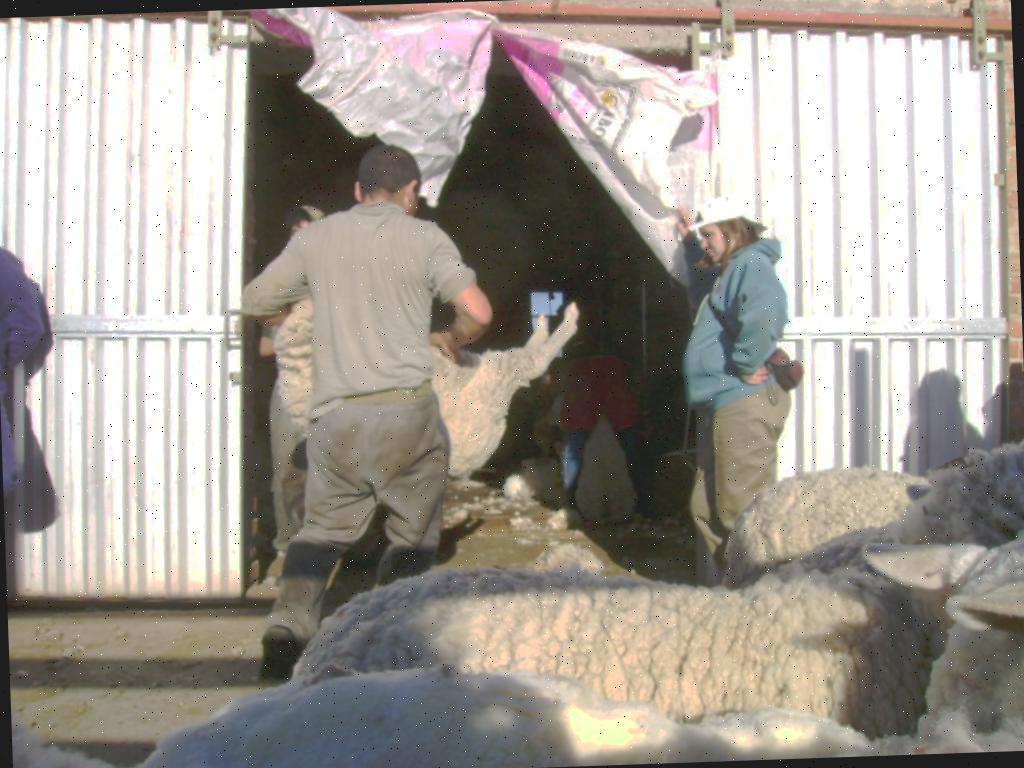Sheep: (6, 526, 1024, 768), (271, 452, 1024, 748), (270, 274, 592, 506), (702, 454, 935, 588)
